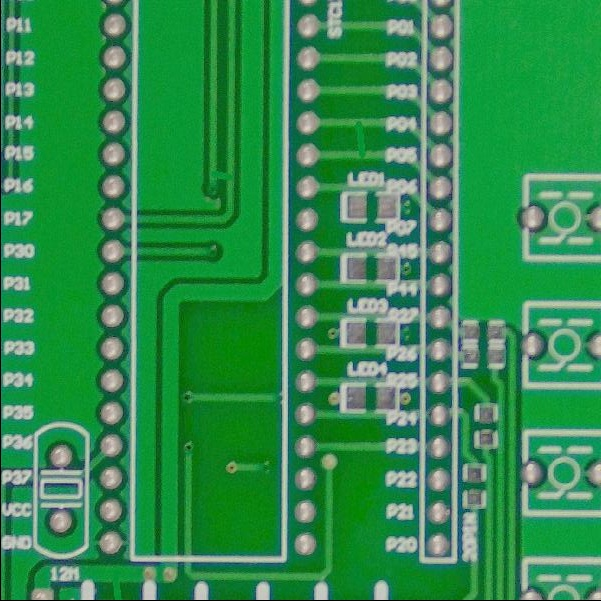short: (343, 113, 373, 165), (99, 568, 130, 599), (206, 161, 235, 193)
